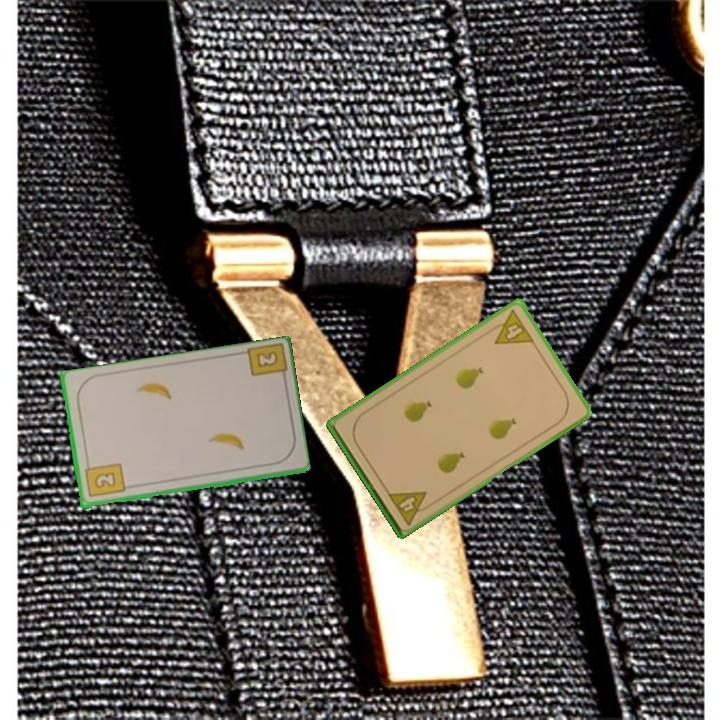2b: (242, 342, 289, 386), (81, 458, 127, 500)
4p: (485, 306, 537, 347), (384, 487, 436, 528)
